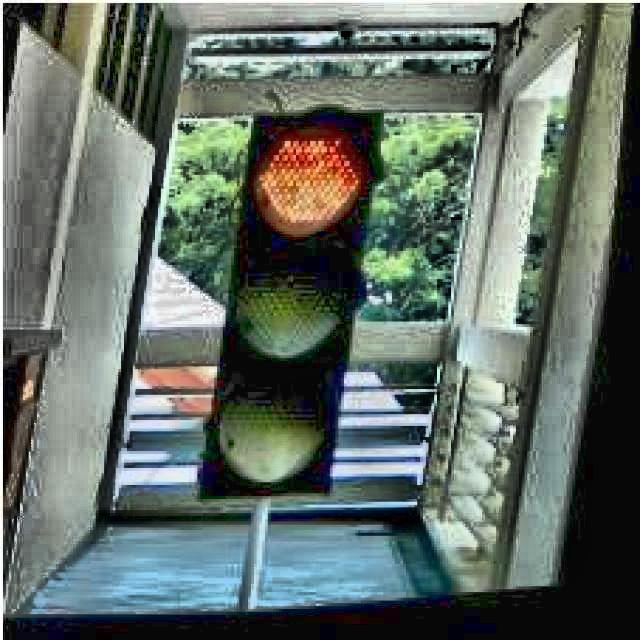red: (212, 99, 376, 493)
